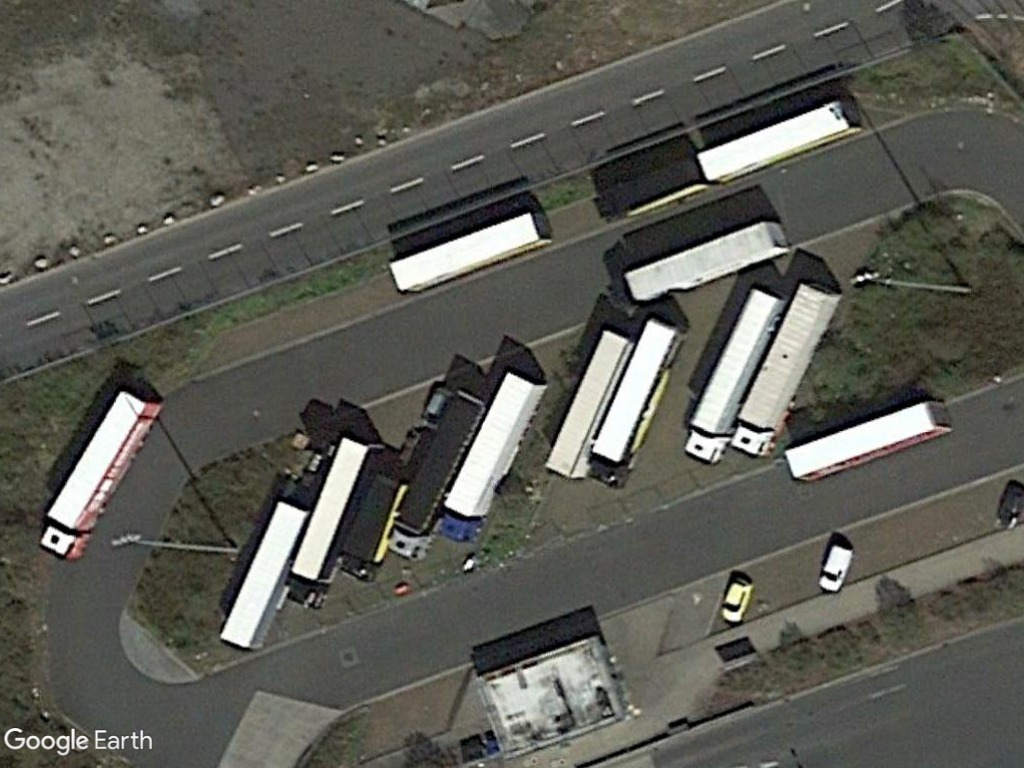car: (717, 560, 757, 639)
longvehicle: (28, 381, 172, 565), (732, 273, 842, 457), (437, 370, 548, 544), (682, 282, 786, 466), (385, 386, 492, 562), (583, 315, 682, 485), (782, 395, 961, 486), (384, 207, 551, 302), (287, 434, 377, 610), (692, 96, 861, 187), (217, 495, 312, 655), (622, 216, 789, 305), (543, 327, 634, 480)
van: (809, 529, 858, 603)
